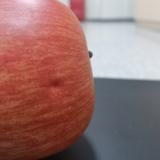apple: (1, 1, 93, 159)
